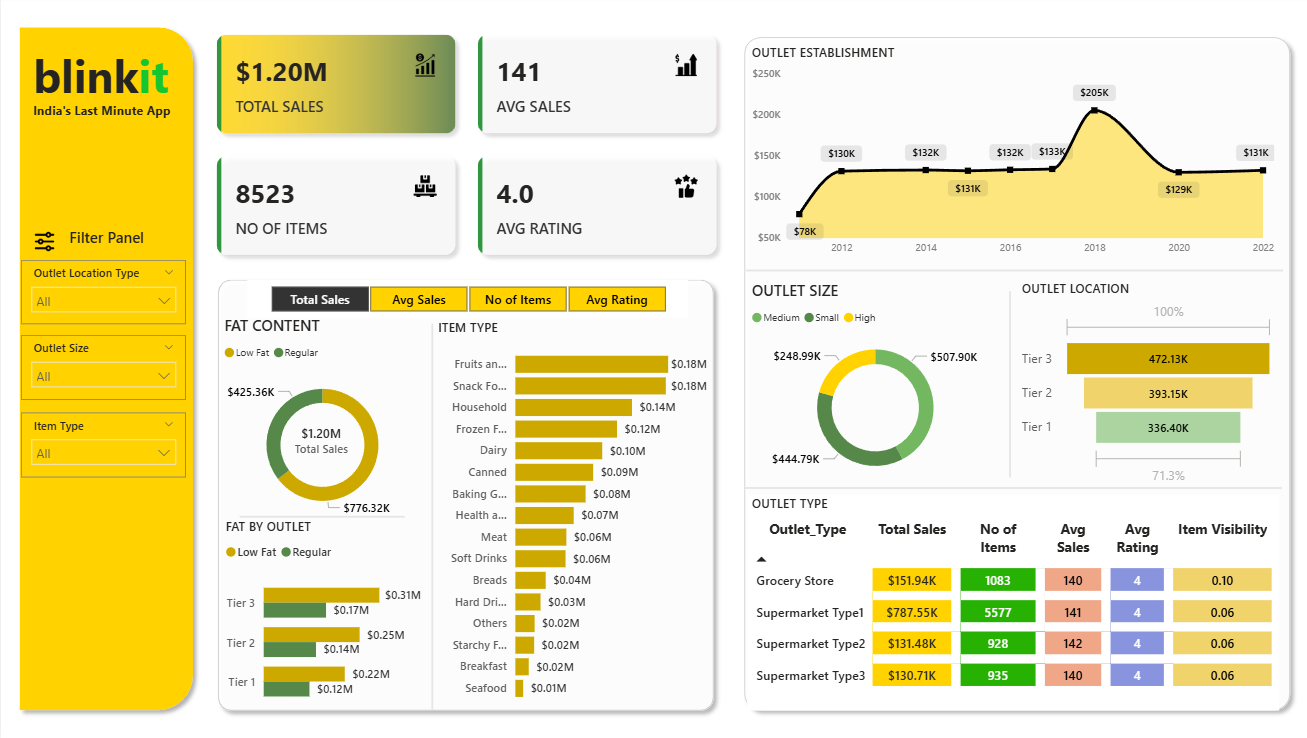

This screenshot's page, from the dashboard's own definition file:
{"tool":"powerbi","page":{"name":"Blinkit_Analysis","canvas":[1400,800],"ordinal":0},"visuals":[{"type":"shape","box":[10.5,25.5,204.1,750.4],"z":0},{"type":"textbox","box":[30,48,165.1,90.1],"z":1000},{"type":"textbox","box":[29.5,109.9,168.9,28.2],"z":2000},{"type":"cardVisual","fields":{"Data":["Blinkit_data.Total Sales","Blinkit_data.Avg Sales","Blinkit_data.No of Items","Blinkit_data.Avg Rating"]},"box":[214.6,25.5,570.3,270.2],"z":3000},{"type":"shape","box":[223.6,295.7,549.3,480.3],"z":4000},{"type":"donutChart","title":"FAT CONTENT","fields":{"Y":["Blinkit_data.Total Sales"],"Category":["Blinkit_data.Item_Fat_Content"]},"box":[235,343.7,220.6,229.6],"z":5000},{"type":"slicer","fields":{"Values":["Metrics.Metrics"]},"box":[264.2,306.2,472.8,40.5],"z":6000},{"type":"cardVisual","fields":{"Data":["Blinkit_data.Total Sales"]},"box":[294.2,444.3,100.6,61.5],"z":7000},{"type":"clusteredBarChart","title":"FAT BY OUTLET","fields":{"Y":["Blinkit_data.Total Sales"],"Category":["Blinkit_data.Outlet_Location_Type"],"Series":["Blinkit_data.Item_Fat_Content"]},"box":[235.9,560.3,219.8,215.8],"z":8000},{"type":"shape","box":[256.6,547.8,177.1,22.5],"z":9000},{"type":"shape","box":[456.3,352.7,13.5,414.2],"z":10000},{"type":"barChart","title":"ITEM TYPE","fields":{"Y":["Blinkit_data.Total Sales"],"Category":["Blinkit_data.Item_Type"]},"box":[463.8,346.7,298.7,420.2],"z":11000},{"type":"shape","box":[788,36,603.3,739.9],"z":12000},{"type":"lineChart","title":"OUTLET ESTABLISHMENT","fields":{"Y":["Blinkit_data.Total Sales"],"Category":["Blinkit_data.Outlet_Establishment_Year"]},"box":[800,52.5,570.3,235.6],"z":13000},{"type":"shape","box":[798.5,283.7,576.3,22.5],"z":14000},{"type":"donutChart","title":"OUTLET SIZE","fields":{"Y":["Blinkit_data.Total Sales"],"Category":["Blinkit_data.Outlet_Size"]},"box":[800,306.2,275,225],"z":15000},{"type":"shape","box":[1079.1,318.2,6,199.6],"z":16000},{"type":"funnel","title":"OUTLET LOCATION","fields":{"Y":["Sum(Blinkit_data.Sales)"],"Category":["Blinkit_data.Outlet_Location_Type"]},"box":[1089.6,306.2,280.7,225.1],"z":17000},{"type":"shape","box":[797,517.8,576.3,22.5],"z":18000},{"type":"pivotTable","title":"OUTLET TYPE","fields":{"Rows":["Blinkit_data.Outlet_Type"],"Values":["Blinkit_data.Total Sales","Blinkit_data.No of Items","Blinkit_data.Avg Sales","Blinkit_data.Avg Rating","Avg(Blinkit_data.Item_Visibility)"]},"box":[800,535.8,570.3,231.1],"z":19000},{"type":"slicer","fields":{"Values":["Blinkit_data.Outlet_Location_Type"]},"box":[21,283.7,177.1,69],"z":20000},{"type":"slicer","fields":{"Values":["Blinkit_data.Outlet_Size"]},"box":[21.4,364.6,176.9,69.7],"z":21000},{"type":"slicer","fields":{"Values":["Blinkit_data.Item_Type"]},"box":[21.4,447.7,176.9,69.7],"z":22000},{"type":"textbox","box":[1.3,244,223.9,40.2],"z":23000},{"type":"image","box":[29.5,244,34.9,40.2],"z":24000}]}

Visuals, with their boxes in screenshot pixels (x1, y1, x2, y2), scaled from the page's 1400x800 canvas onto the 1307x738 screenshot:
shape: [10,24,200,716]
textbox: [28,44,182,127]
textbox: [28,101,185,127]
cardVisual - Blinkit_data.Total Sales x Blinkit_data.Avg Sales: [200,24,733,273]
shape: [209,273,722,716]
"FAT CONTENT" donutChart: [219,317,425,529]
slicer - Metrics.Metrics: [247,282,688,320]
cardVisual - Blinkit_data.Total Sales: [275,410,369,467]
"FAT BY OUTLET" clusteredBarChart: [220,517,425,716]
shape: [240,505,405,526]
shape: [426,325,439,707]
"ITEM TYPE" barChart: [433,320,712,707]
shape: [736,33,1299,716]
"OUTLET ESTABLISHMENT" lineChart: [747,48,1279,266]
shape: [745,262,1283,282]
"OUTLET SIZE" donutChart: [747,282,1004,490]
shape: [1007,294,1013,478]
"OUTLET LOCATION" funnel: [1017,282,1279,490]
shape: [744,478,1282,498]
"OUTLET TYPE" pivotTable: [747,494,1279,707]
slicer - Blinkit_data.Outlet_Location_Type: [20,262,185,325]
slicer - Blinkit_data.Outlet_Size: [20,336,185,401]
slicer - Blinkit_data.Item_Type: [20,413,185,477]
textbox: [1,225,210,262]
image: [28,225,60,262]
